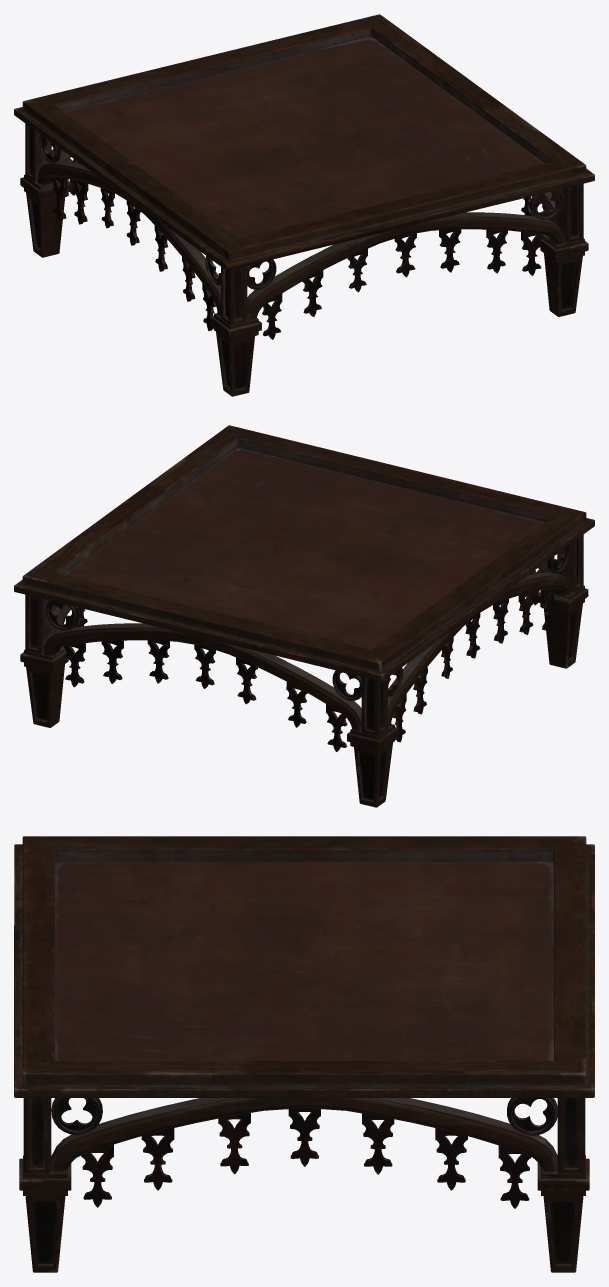
Rendered from goth_table.glb.
3 renders of one model, top to bottom at view 1: azimuth 30°, elevation 25°; view 2: azimuth 150°, elevation 25°; view 3: azimuth 270°, elevation 25°, orthographic. The views are drawn at different scales.
Visible parts, largest first — view 1: gothic_coffee_table; view 2: gothic_coffee_table; view 3: gothic_coffee_table.
Boxes of the visible parts, x1=… form: gothic_coffee_table: x1=14, y1=14, x2=594, y2=396; gothic_coffee_table: x1=14, y1=425, x2=594, y2=807; gothic_coffee_table: x1=14, y1=836, x2=594, y2=1272.
Size of the model in its own units: 1.44 by 0.5588 by 1.44.
1 material, 1 textured.
